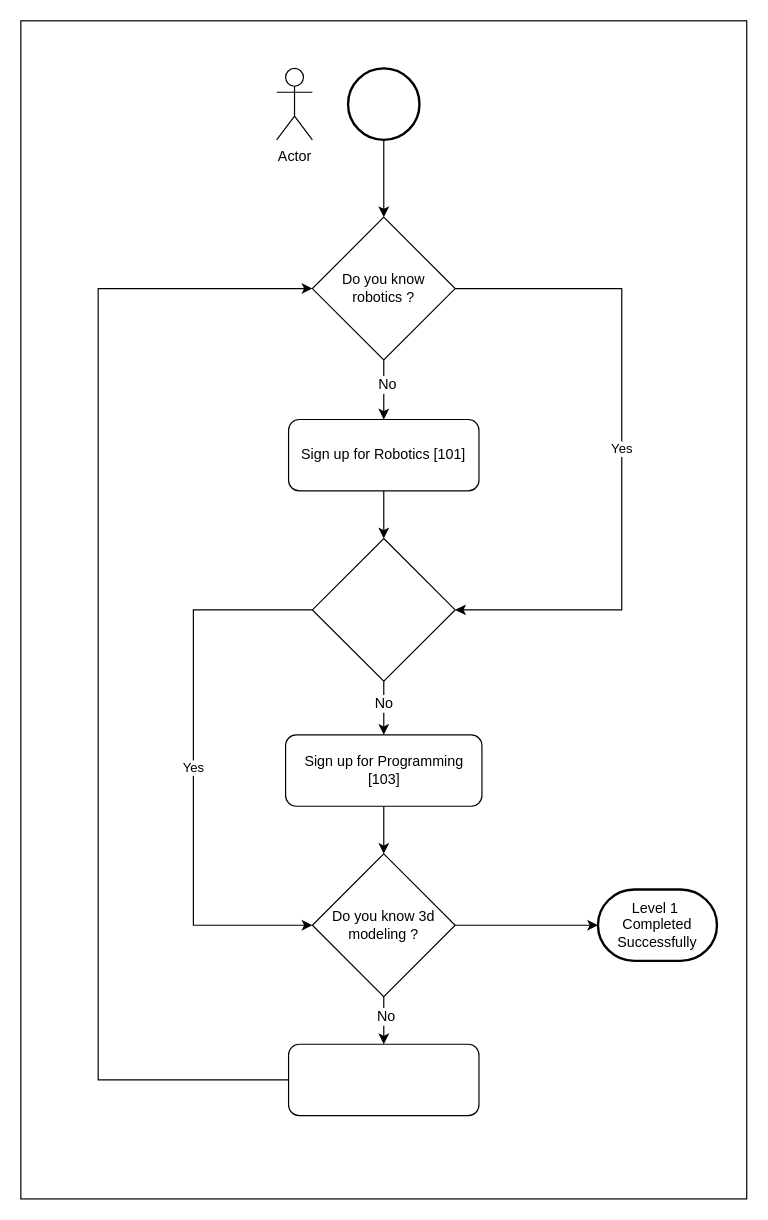
The diagram is 768 pixels wide and 1220 high, and some of its shapes have lost their labels. Each missing label, with the centre of its shape:
"Do you know programming ?" goes at (x=383, y=609).
"Sign up for 3D Modeling [102]" goes at (x=383, y=1079).
"Start" goes at (x=383, y=103).
